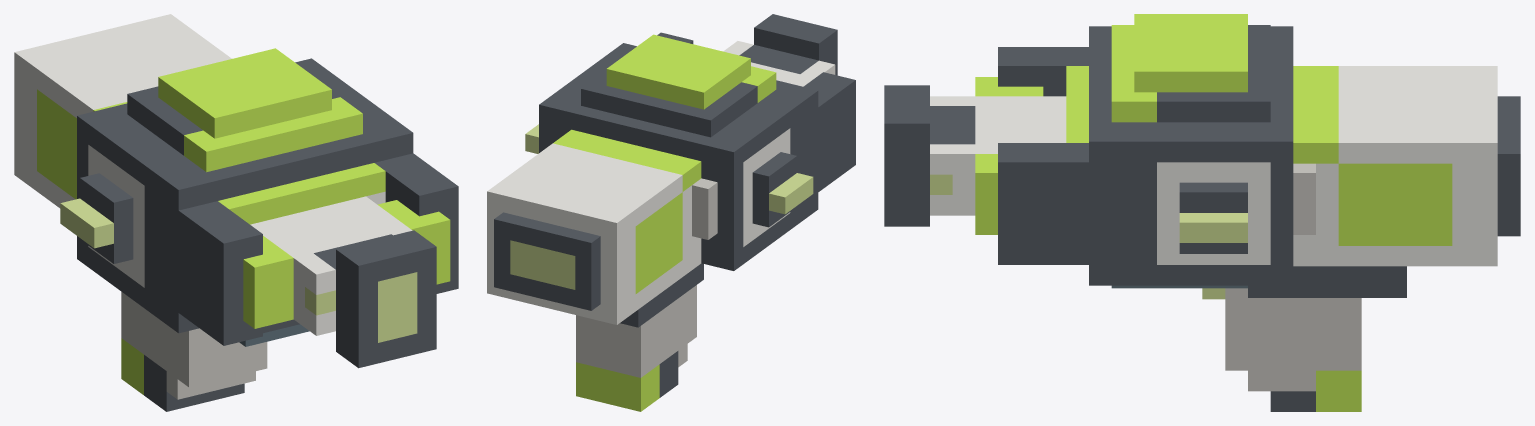
Rendered from Tether_Anchor_Reel.obj.
3 views of the same model, side by side, from view 1: azimuth 30°, elevation 25°; view 2: azimuth 150°, elevation 25°; view 3: azimuth 270°, elevation 25° (orthographic). The views are drawn at different scales.
Size of the model in its own units: 1.6 by 1.7 by 2.8.
1 material, 1 textured.
